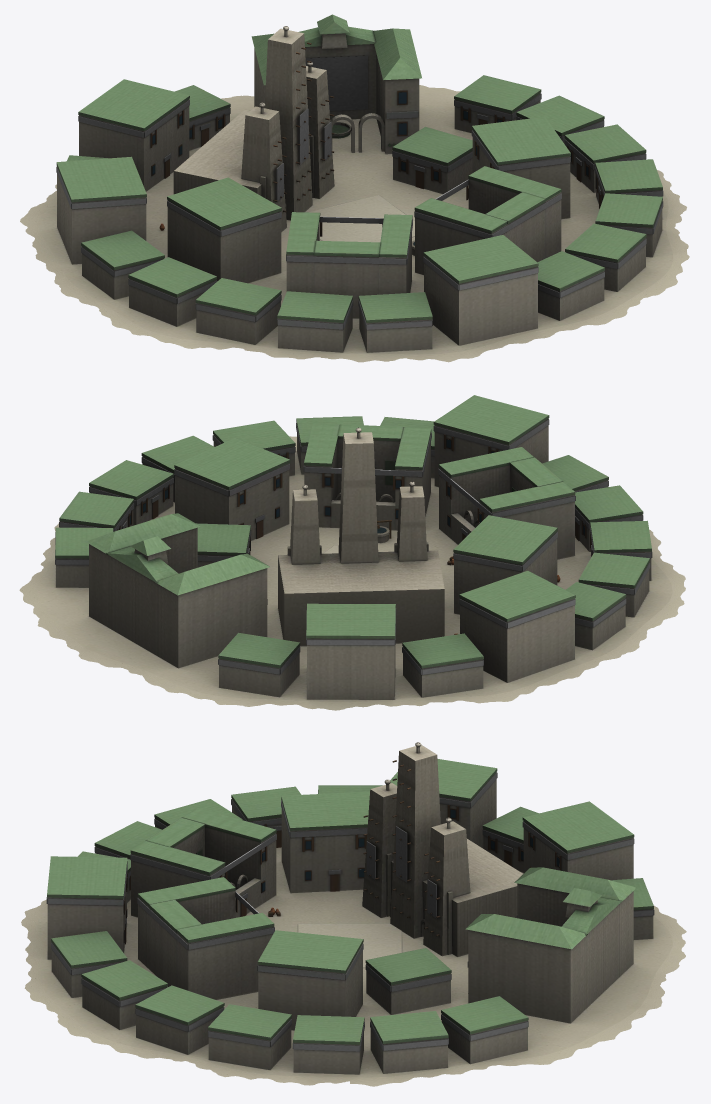
Rendered from gunpowder-town-big-b-maghreb.glb.
The picture shows the model from 3 angles, top to bottom: view 1: azimuth 30°, elevation 25°; view 2: azimuth 150°, elevation 25°; view 3: azimuth 270°, elevation 25°; orthographic projection.
Visible parts, largest first — view 1: LOD0; view 2: LOD0; view 3: LOD0.
Boxes of the visible parts, x1,y1,x2,y2 form: LOD0: (20,14,689,362); LOD0: (19,395,685,710); LOD0: (21,742,686,1086).
Size of what is drawn, in the model's own units: 7.89 by 2.39 by 7.94.
Materials: 3 (3 with a texture image).
